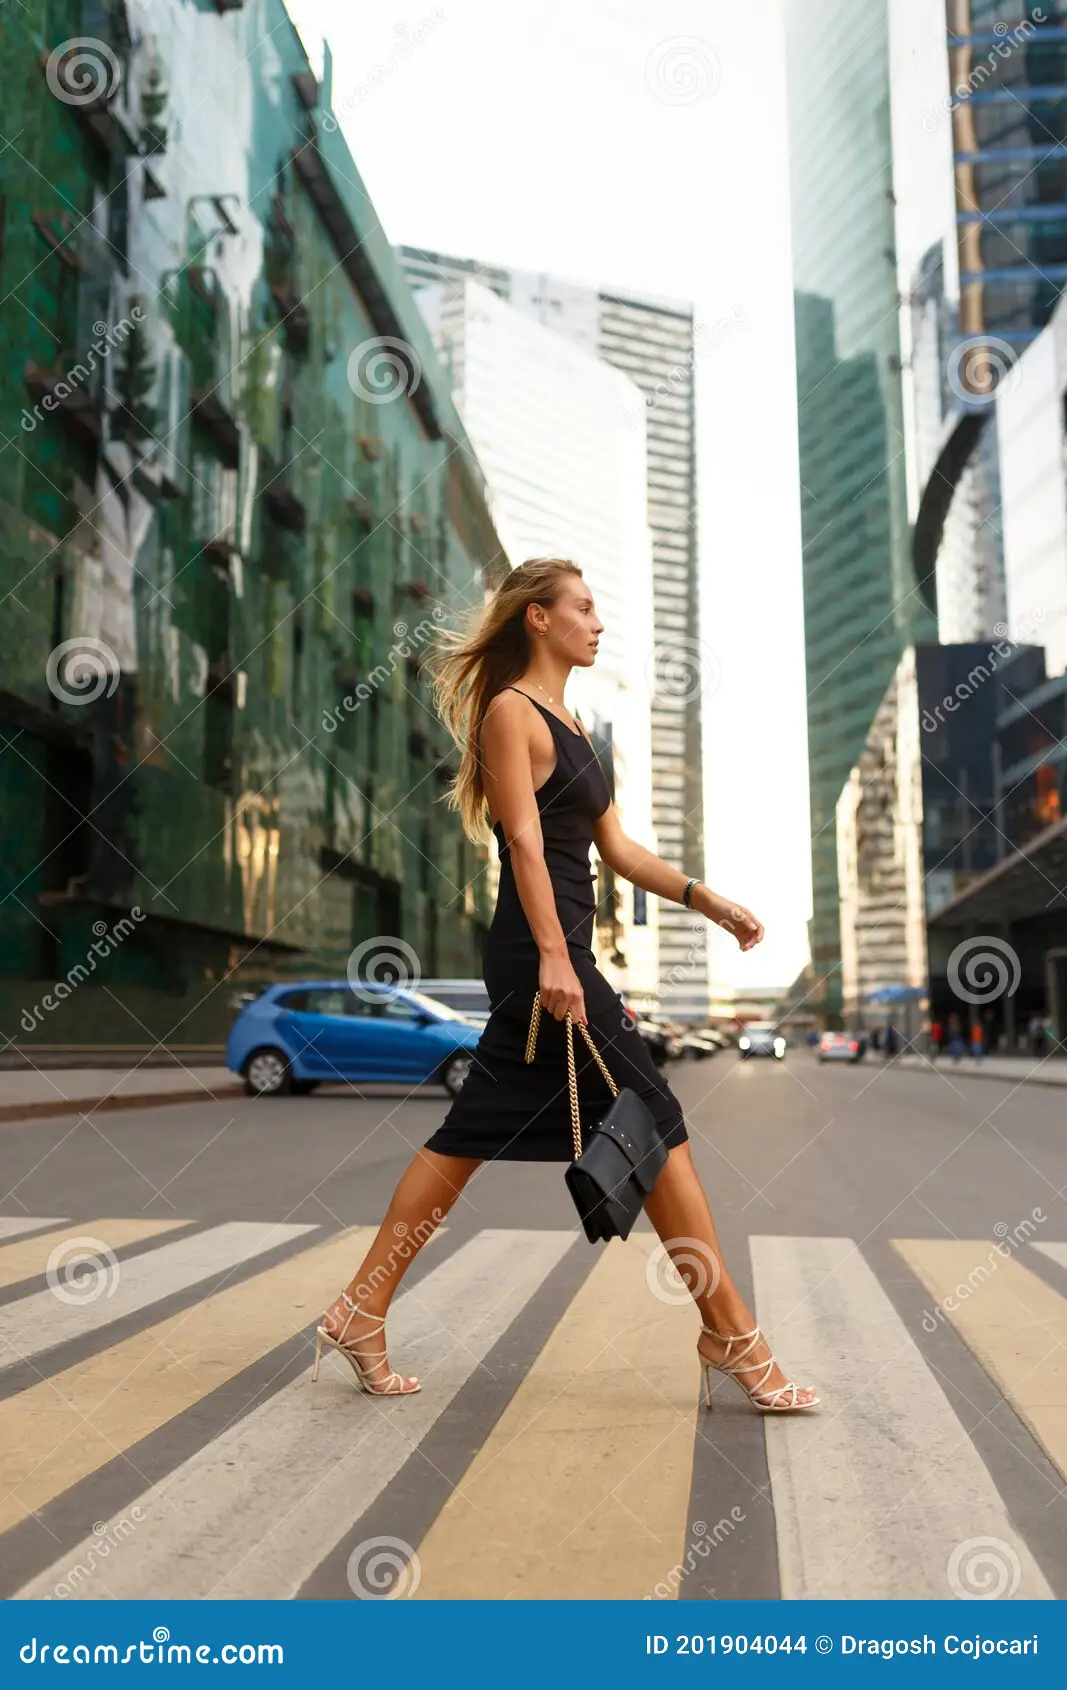car: (233, 972, 508, 1102), (730, 1011, 794, 1063), (815, 1020, 867, 1065)
person: (283, 540, 837, 1431)
